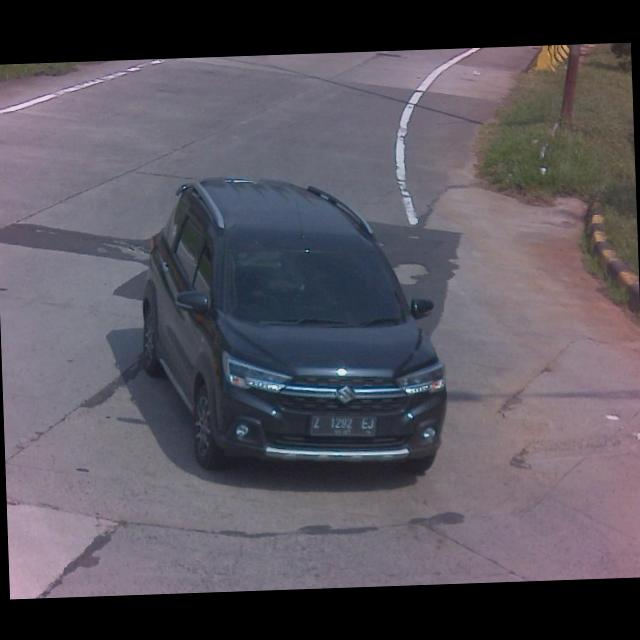plate: (308, 410, 378, 441)
